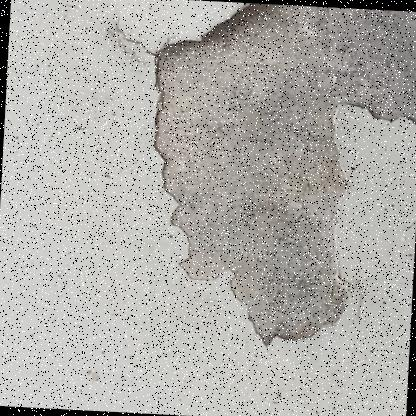Crack: (74, 0, 415, 392)
